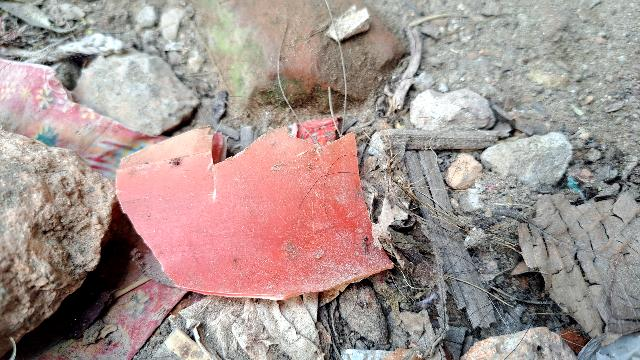hardplastic: (118, 112, 378, 303)
